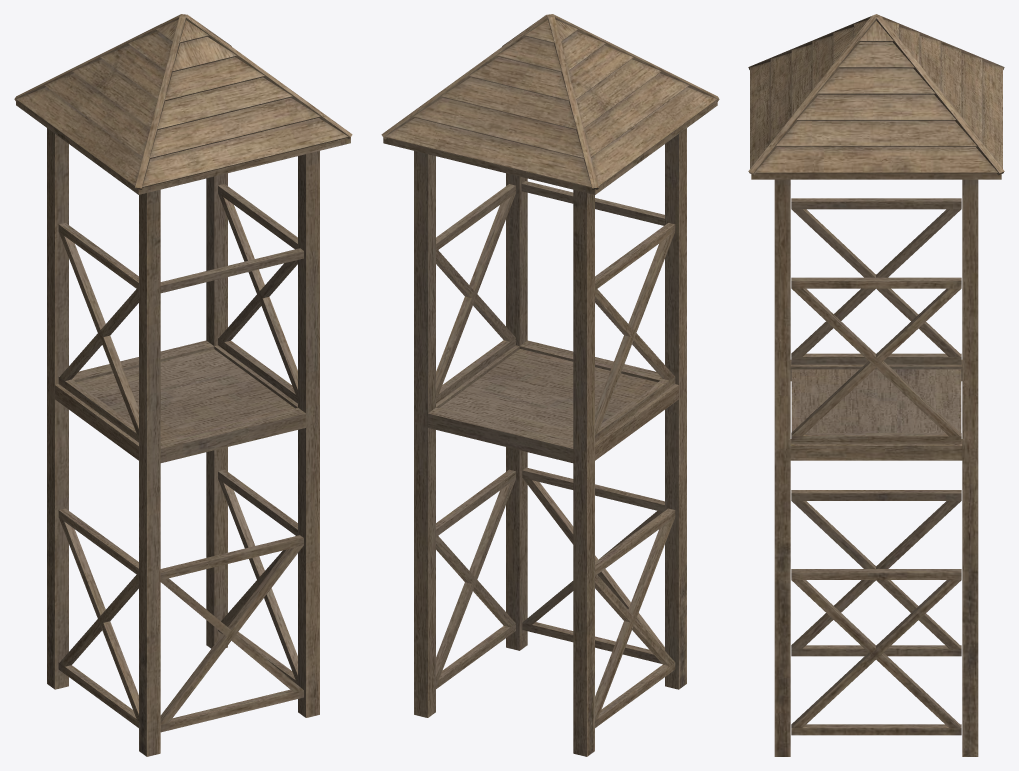
File: wood_tower.glb
3 views of the same model, side by side, from view 1: azimuth 30°, elevation 25°; view 2: azimuth 150°, elevation 25°; view 3: azimuth 270°, elevation 25° (orthographic). The views are drawn at different scales.
Visible parts, largest first — view 1: 3_Tower_2_LP; view 2: 3_Tower_2_LP; view 3: 3_Tower_2_LP.
Part boxes in pixels (box(x1,y1,x2,y2)): 3_Tower_2_LP: box(14, 14, 352, 756); 3_Tower_2_LP: box(381, 14, 719, 756); 3_Tower_2_LP: box(748, 14, 1004, 756).
Size of the model in its own units: 1.69 by 5.09 by 1.69.
1 material, 1 textured.
